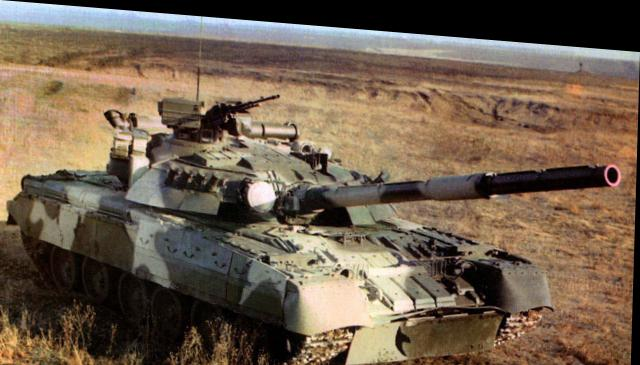tank: (17, 78, 552, 364)
